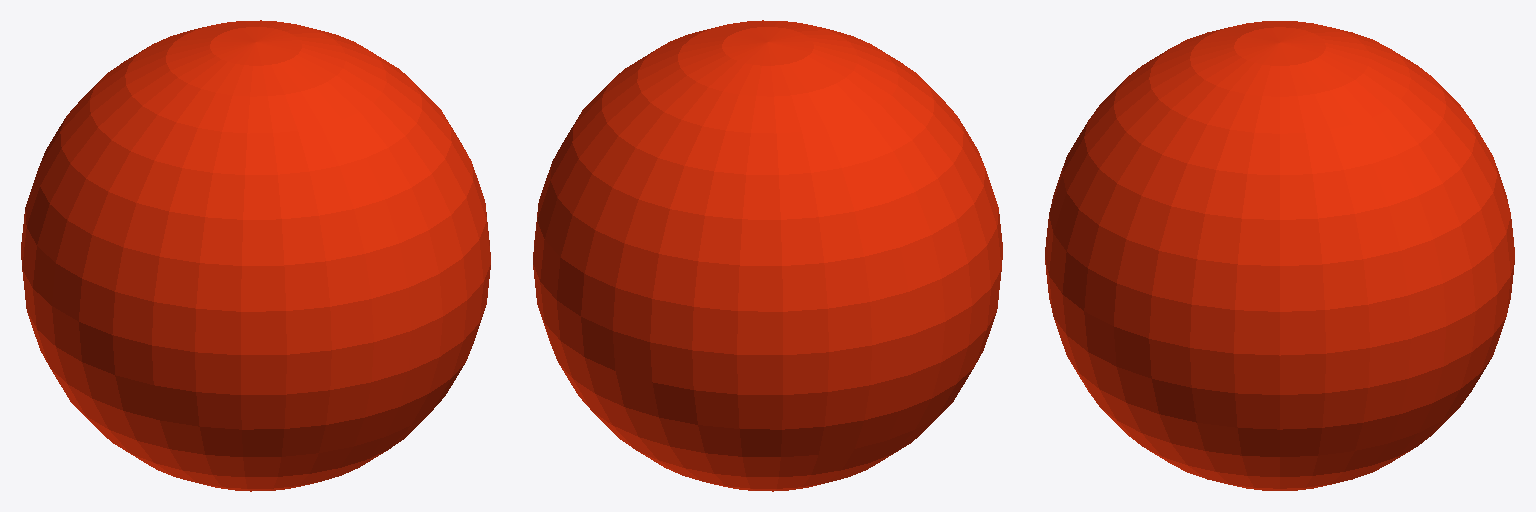
The robot description file, URDF, robot "root":
<?xml version="0.0" ?>
<robot name="root">
  <link name="base">
    <inertial>
      <origin rpy="0 0 0" xyz="0 0 0"/>
      <mass value="0.001"/>
      <inertia ixx="-4.46E-06" ixy="-4.55E-07" ixz="1.95E-06" iyy="-2.47E-06" iyz="8.51E-08" izz="2.17E-06"/>
    </inertial>
    <visual>
      <origin rpy="0 0 0" xyz="0 0 0.0"/>
      <geometry>
        <sphere radius="0.005"/>
      </geometry>
      <material name="Red">
      </material> 
    </visual>
    <collision>
      <origin rpy="0 0 0" xyz="0 0 0.0"/>
      <geometry>
        <sphere radius="0.005"/>
      </geometry>
    </collision>
  </link>

  <material name="panda_white">
    <color rgba="1. 1. 1. 1."/>
  </material>
  <material name="red">
    <color rgba="1.0 0. 0. 1.0"/>
  </material>
  <material name="blue">
    <color rgba="0. 0. 1. 1.0"/>
  </material>
  <material name="green">
    <color rgba="0. 1. 0. 1.0"/>
  </material>
  <material name="Yellow">
    <color rgba="0.949 0.878 0.0392 1.0"/>
  </material>
  <material name="Blue">
    <color rgba="0.12156 0.3804 0.6745 1.0"/>
  </material>
  <material name="Red">
    <color rgba="0.9254901 0.243137 0.086274509 1.0"/>
  </material>

</robot>

--- Render facts (derived) ---
3 views of the same robot in one strip: view 1: azimuth 30°, elevation 25°; view 2: azimuth 150°, elevation 25°; view 3: azimuth 270°, elevation 25° (orthographic).
Robot: root — 1 links, 0 joints (none); root link base; default pose: all joints at 0.
Visible links, largest first — view 1: base; view 2: base; view 3: base.
Boxes of the visible links, left/top/right/bottom form: base: left=21, top=20, right=490, bottom=491; base: left=533, top=20, right=1002, bottom=491; base: left=1045, top=21, right=1514, bottom=490.
Bounding box of the posed robot: 0.01 × 0.01 × 0.01 m (x, y, z).
Geometry: primitives only (box / cylinder / sphere), no mesh files.